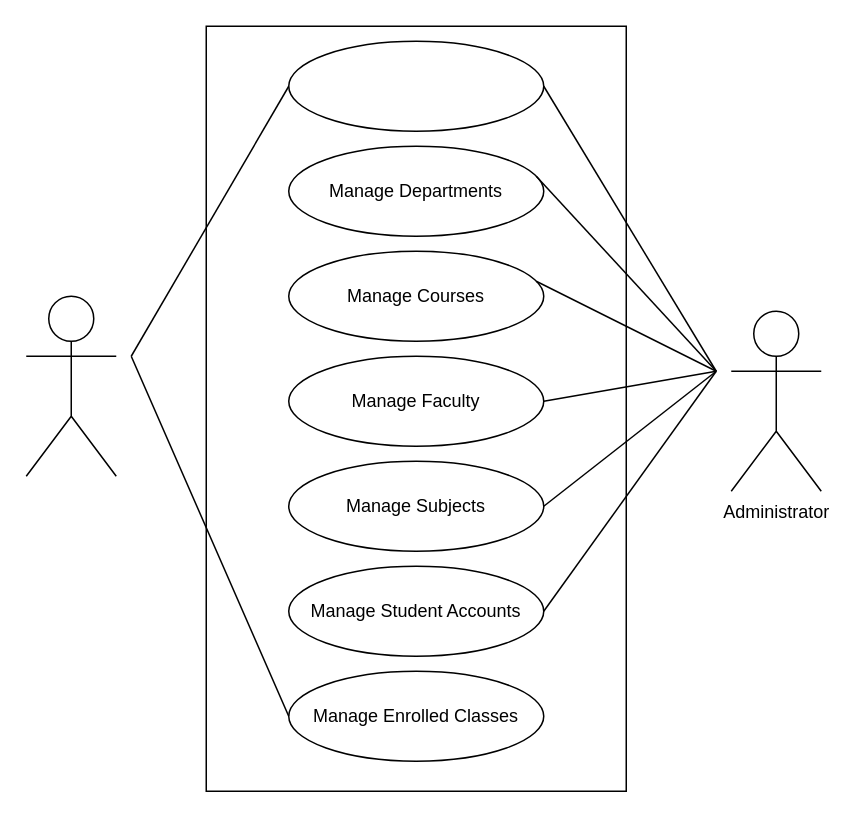
Image size: 855x818. Some labels were removed from this diagram. The centre of each missing label's shape, as x and y in pixels:
"Login/Change Password" goes at point 415,85.
"Student" goes at point 70,385.
